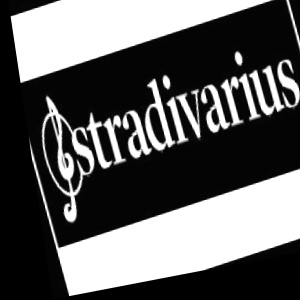stradivarius: (289, 0, 300, 48)
